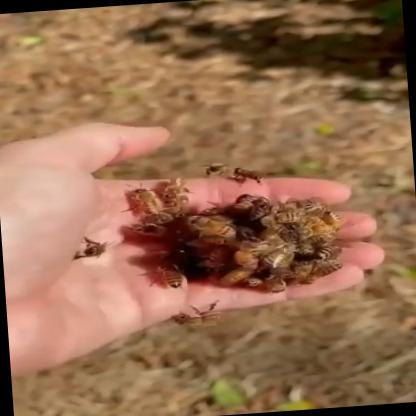bee: (86, 154, 362, 329)
